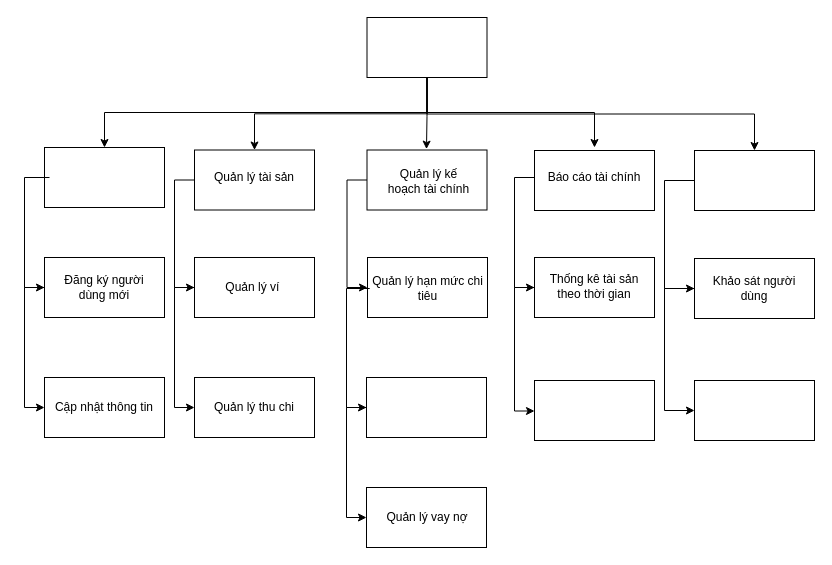
This 832x565 diagram has some shape labels left out. The centre of each missing label's shape, as x and y in pixels:
"Hỗ trợ người dùng" belongs at (x=754, y=410).
"Khảo sát và hỗ trợ" belongs at (x=754, y=180).
"Lập báo cáo tài chính" belongs at (x=594, y=410).
"Quản lý người dùng" belongs at (x=104, y=177).
"Quản lý tài sản cá nhân" belongs at (x=426, y=47).
"Quản lý đầu tư" belongs at (x=426, y=407).
